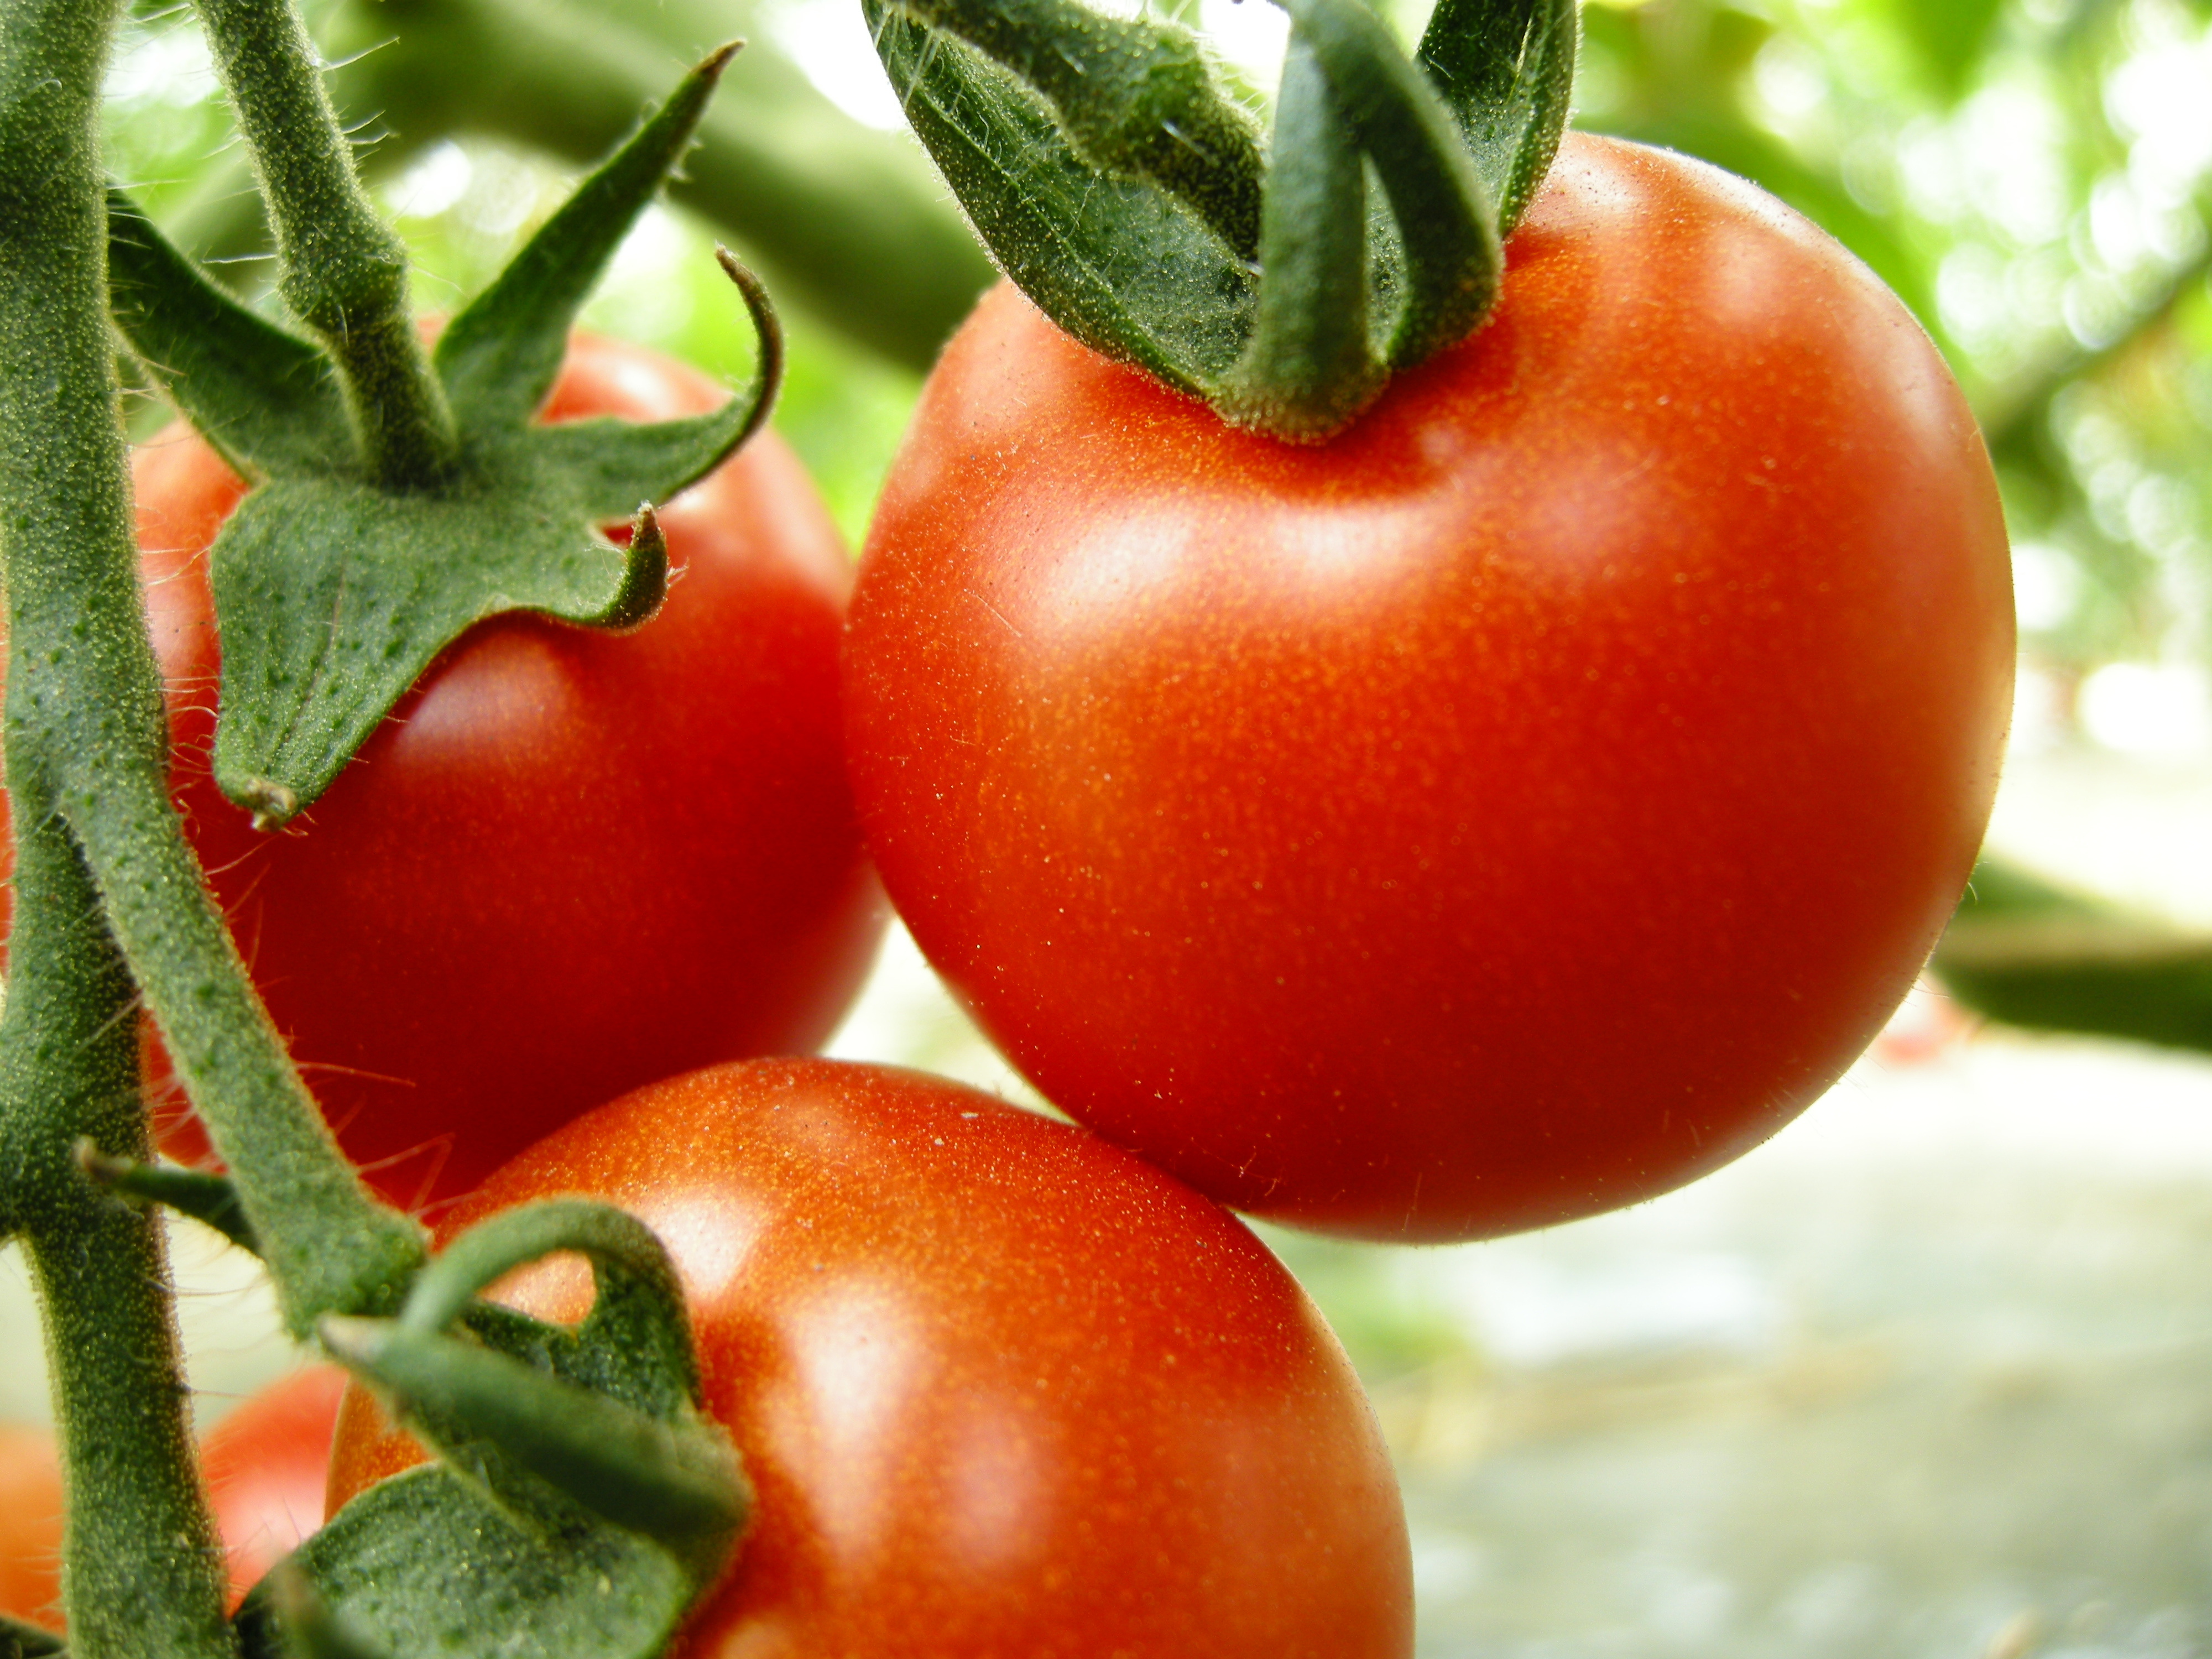tomato: (834, 117, 2017, 1232), (40, 124, 948, 1227), (343, 1049, 1411, 1656)
